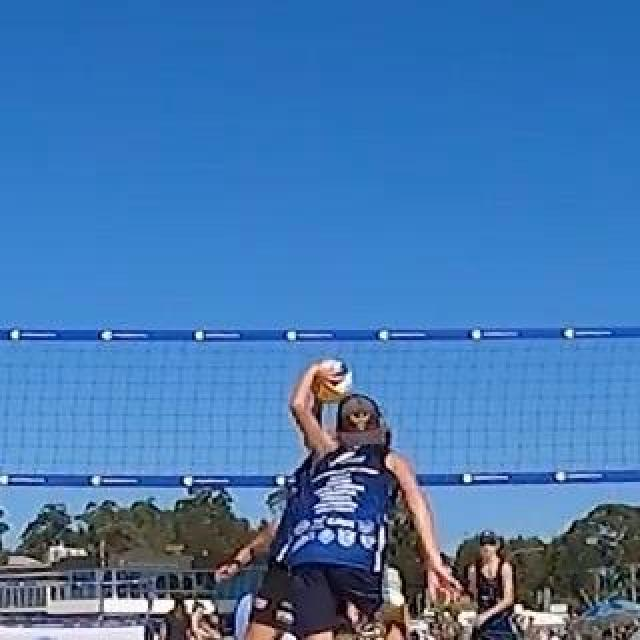volleyball: (311, 360, 353, 404)
